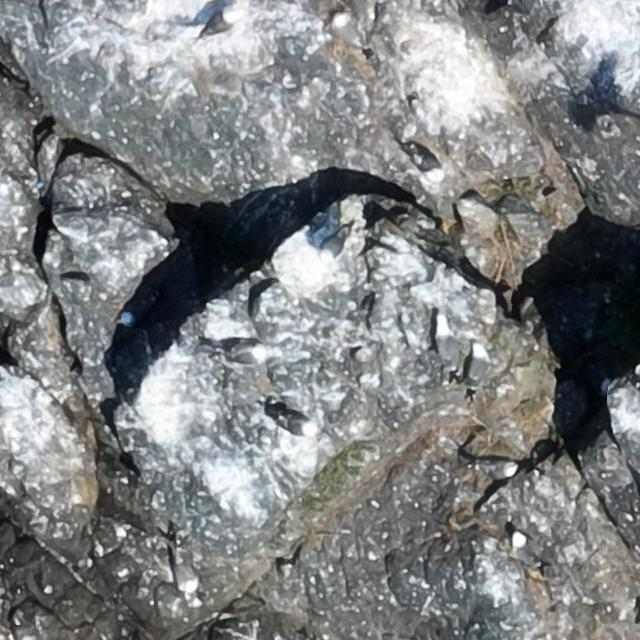umineko: (402, 138, 448, 184), (431, 311, 461, 381), (466, 342, 494, 398), (116, 302, 162, 328), (175, 553, 197, 593), (332, 13, 357, 48), (276, 412, 314, 434), (203, 12, 237, 35), (512, 535, 541, 559), (225, 344, 263, 362), (482, 461, 518, 479), (322, 232, 344, 259)
